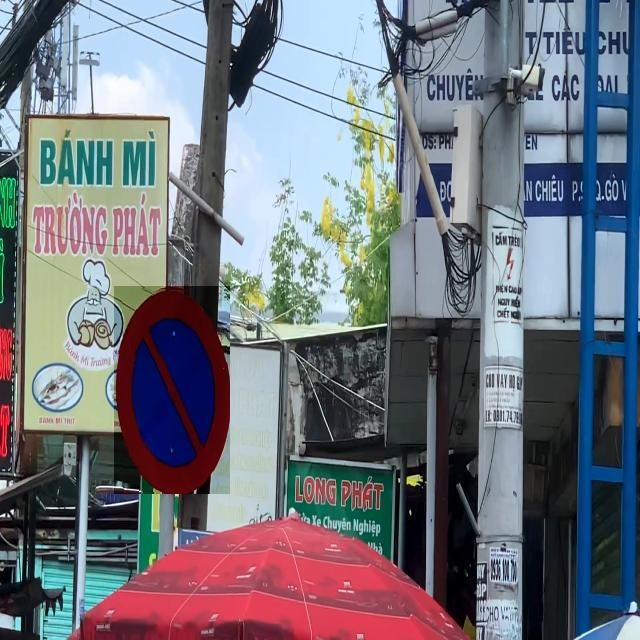bien_cam: (114, 286, 230, 494)
